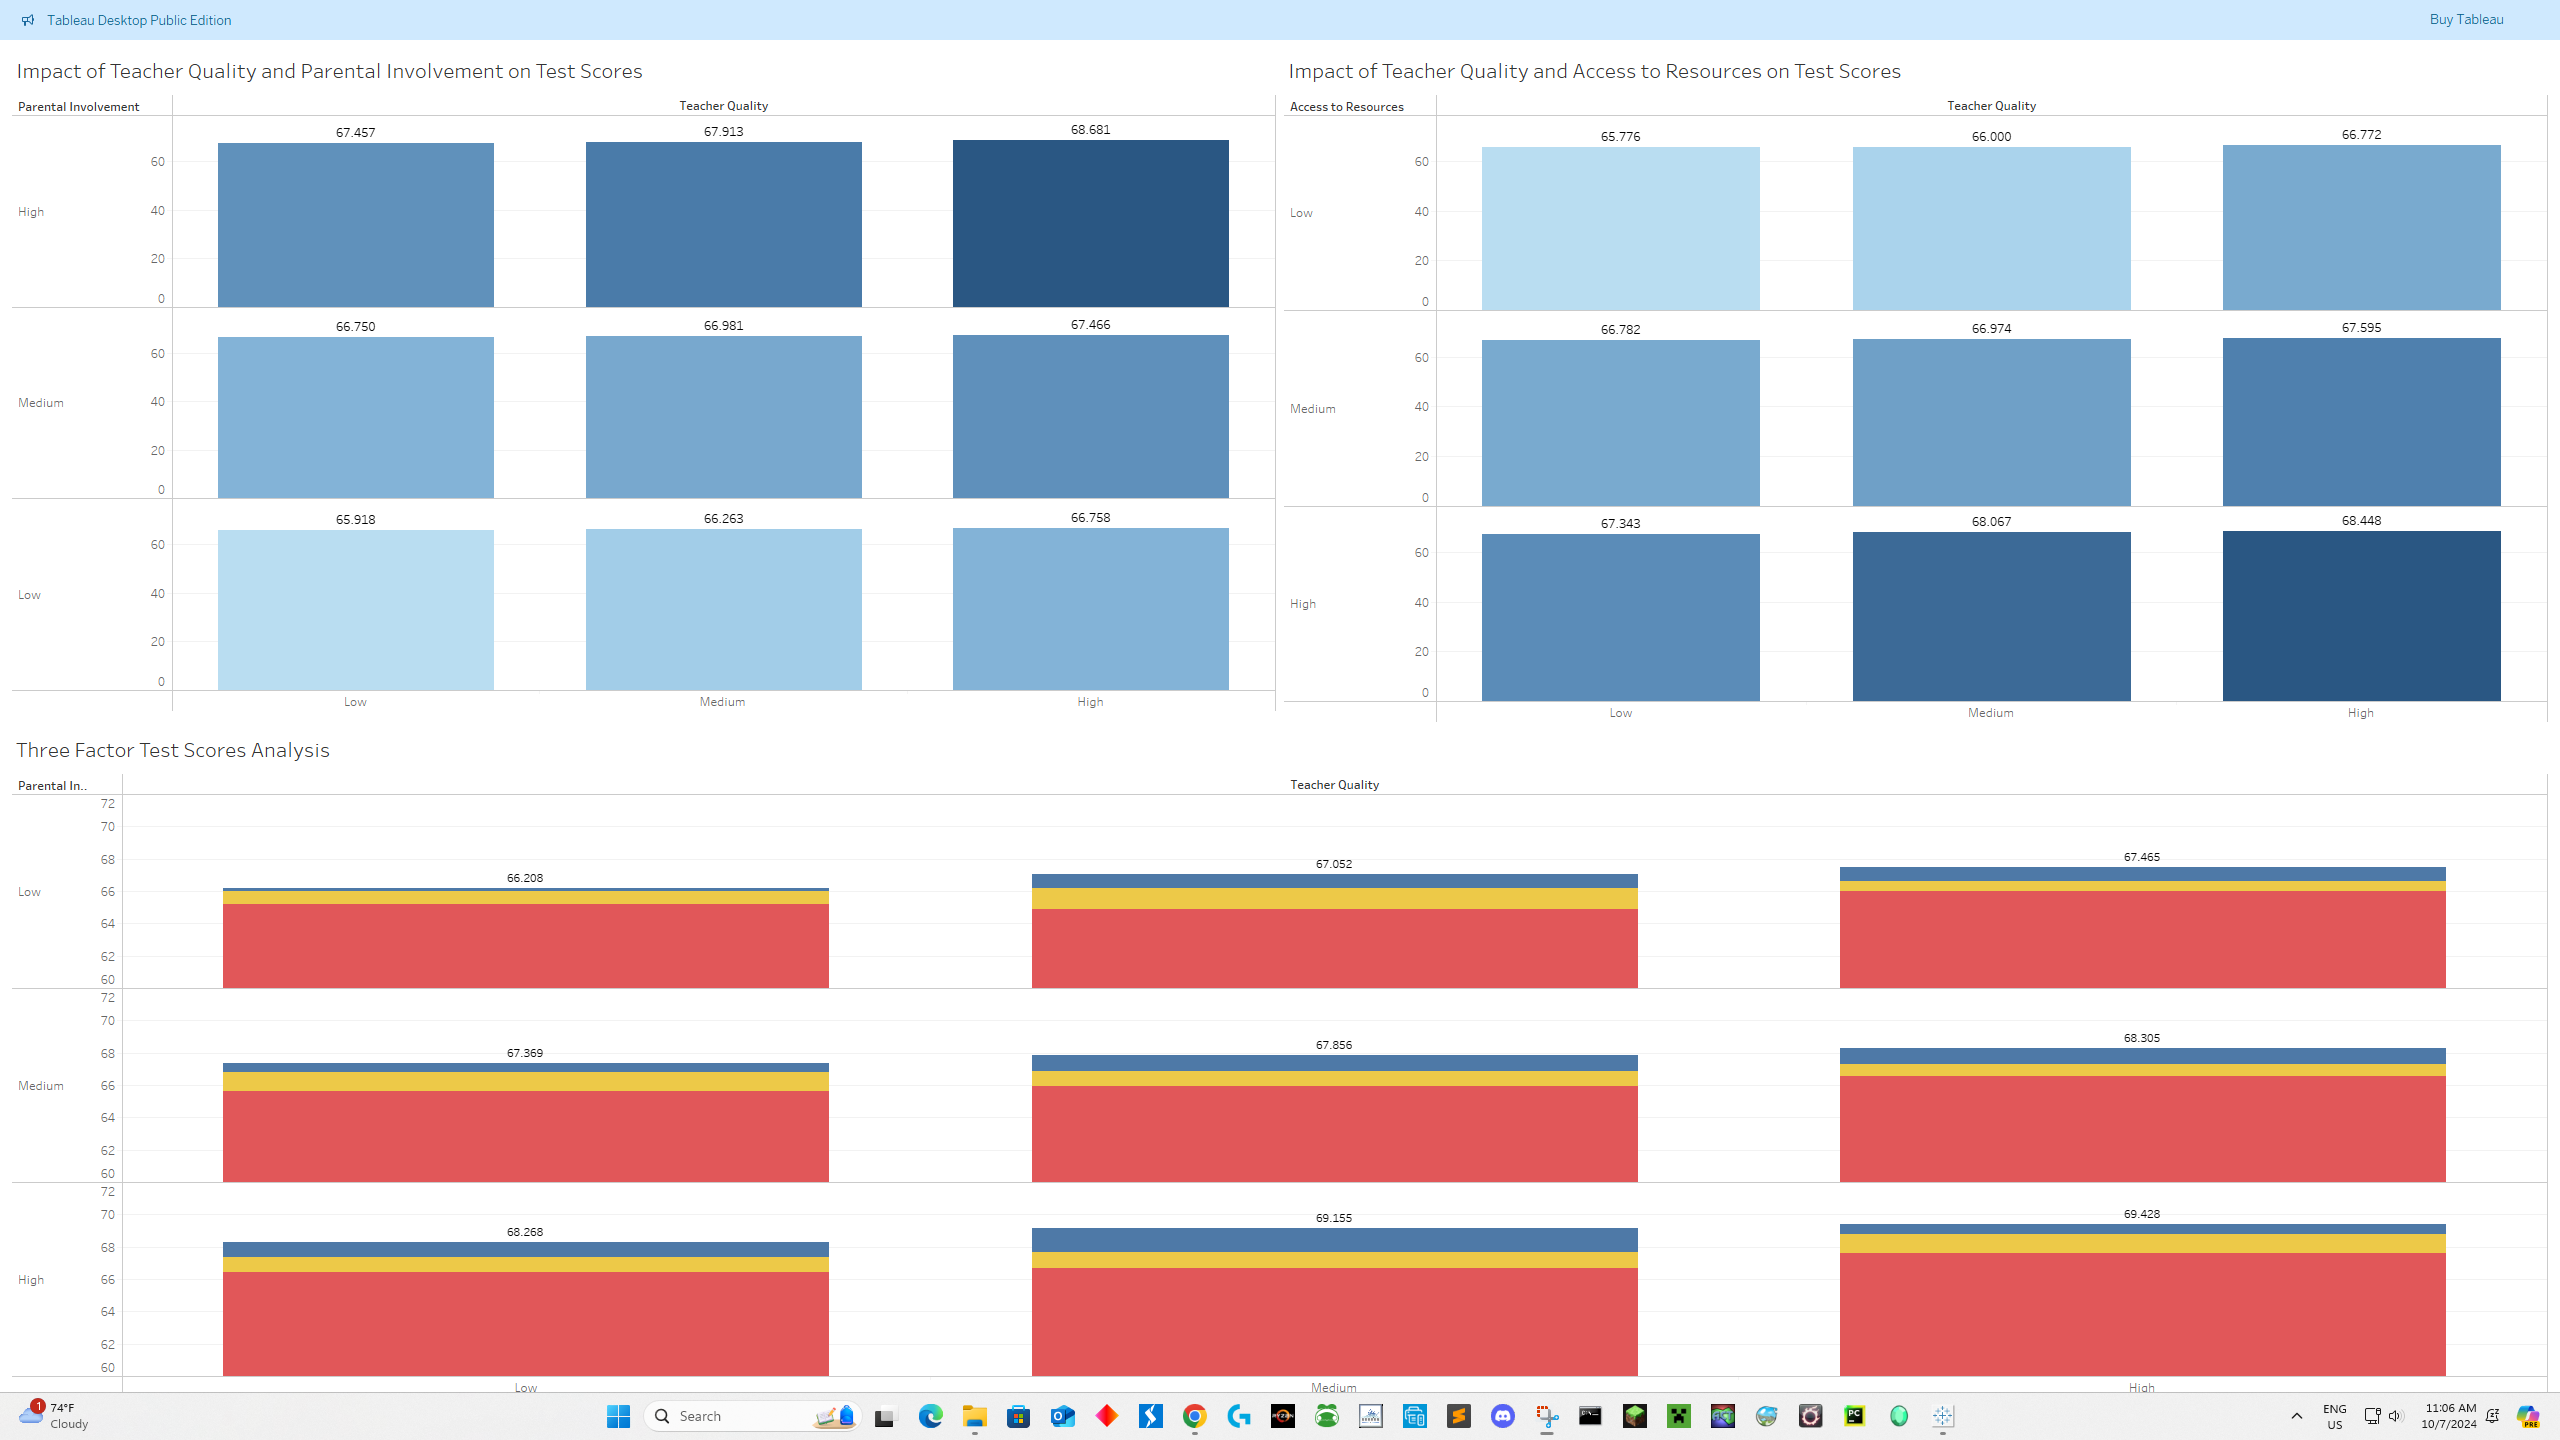

The page's visual inventory and layout, read from the dashboard file:
{"tool":"tableau","page":{"name":"Dashboard 1","canvas":[1000,1000],"units":"permille","ordinal":0},"visuals":[{"type":"worksheet","title":"Impact of Teacher Quality and Parental Involvement on Test Scores","mark":"Bar","rows":["Parental_Involvement","Exam_Score"],"cols":["Teacher_Quality"],"box":[4.7,8.6,495.3,492.8]},{"type":"worksheet","title":"Impact of Teacher Quality and Access to Resources on Test Scores","mark":"Bar","rows":["Access_to_Resources","Exam_Score"],"cols":["Teacher_Quality"],"box":[500,8.6,495.3,492.8]},{"type":"worksheet","title":"Three Factor Test Scores Analysis","mark":"Automatic","rows":["Parental_Involvement","Exam_Score"],"cols":["Teacher_Quality"],"box":[4.7,501.5,990.6,489.9]}]}

Visuals, with their boxes on the dashboard's canvas, which has no fixed pixel size, in thousandths of its width and height (x1, y1, x2, y2). These are canvas units, not pixel positions in the 2560x1440 screenshot, which may show the page scaled, cropped or inside an application window:
"Impact of Teacher Quality and Parental Involvement on Test Scores" worksheet (Bar marks): locate(5, 9, 500, 501)
"Impact of Teacher Quality and Access to Resources on Test Scores" worksheet (Bar marks): locate(500, 9, 995, 501)
"Three Factor Test Scores Analysis" worksheet: locate(5, 502, 995, 991)
